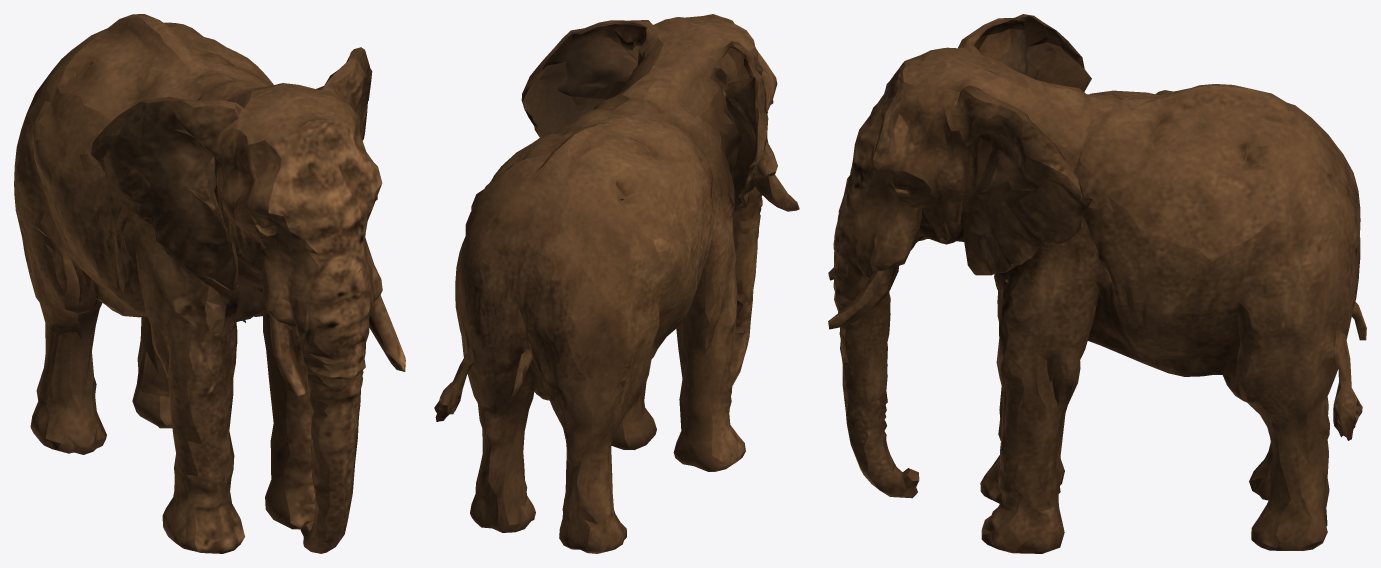
3 renders of one model, left to right at view 1: azimuth 30°, elevation 25°; view 2: azimuth 150°, elevation 25°; view 3: azimuth 270°, elevation 25°, orthographic. The views are drawn at different scales.
Parts seen in each view (by area): view 1: geometry_0; view 2: geometry_0; view 3: geometry_0.
Boxes of the visible parts, bbox=[...] form: geometry_0: bbox=[14, 14, 405, 553]; geometry_0: bbox=[434, 14, 799, 553]; geometry_0: bbox=[828, 14, 1366, 553].
Size of the model in its own units: 6 by 9.61 by 10.23.
Materials: 1 (1 with a texture image).
